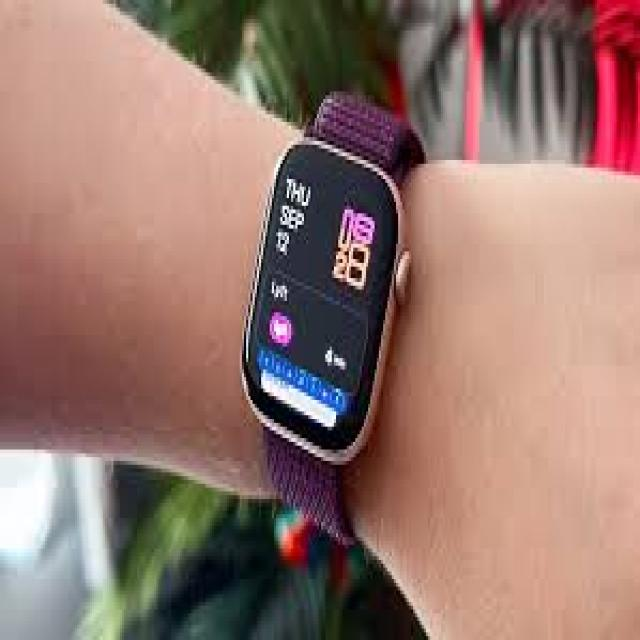objects: (242, 137, 415, 461)
